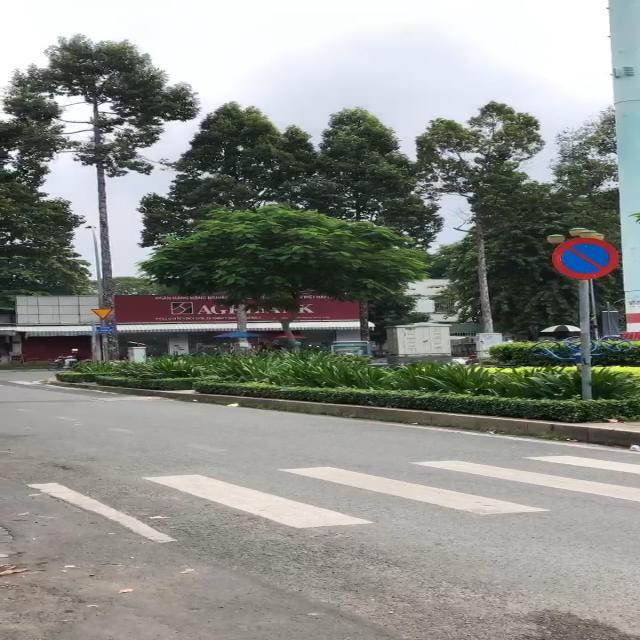Bien bao cam do xe: (546, 235, 626, 283)
Bien bao giao nhau voi duong uu tien: (90, 308, 118, 321)
